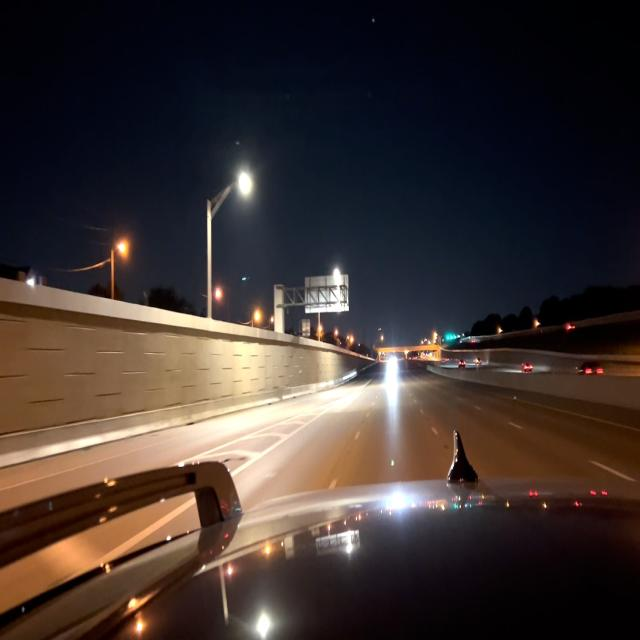back-of-sign: (304, 274, 349, 312)
